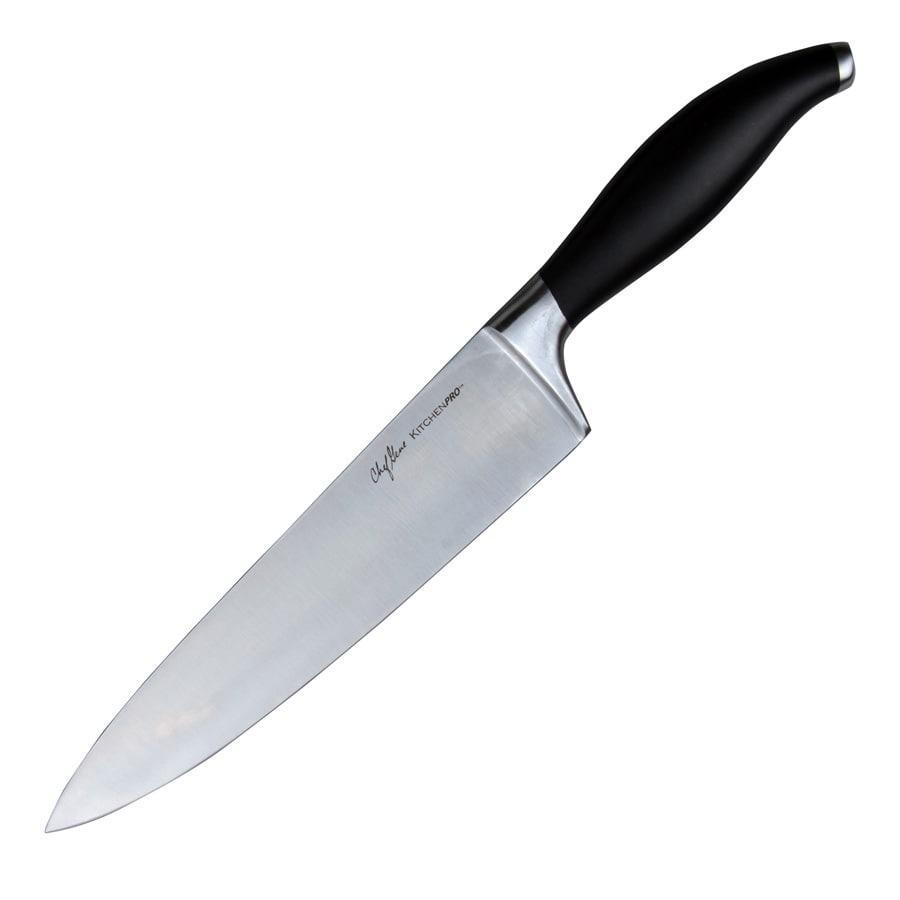faca: (46, 42, 854, 831)
